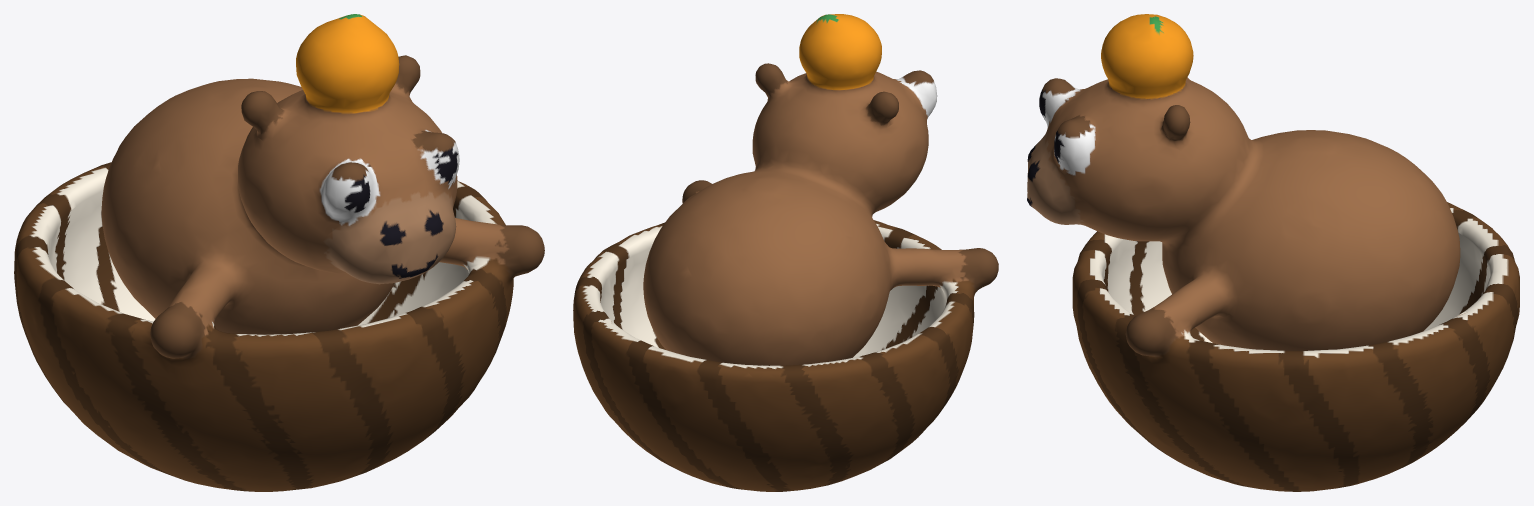
File: SM_Burbaloni_Luliloli.fbx
3 renders of one model, left to right at view 1: azimuth 30°, elevation 25°; view 2: azimuth 150°, elevation 25°; view 3: azimuth 270°, elevation 25°, orthographic. The views are drawn at different scales.
Visible parts, largest first — view 1: Burbaloni_Luliloli; view 2: Burbaloni_Luliloli; view 3: Burbaloni_Luliloli.
Boxes of the visible parts, x1,y1,x2,y2 form: Burbaloni_Luliloli: (14,14,544,491); Burbaloni_Luliloli: (573,14,998,491); Burbaloni_Luliloli: (1027,14,1519,491).
Size of the model in its own units: 0.8998 by 1.01 by 0.9917.
Materials: 1 (1 with a texture image).
